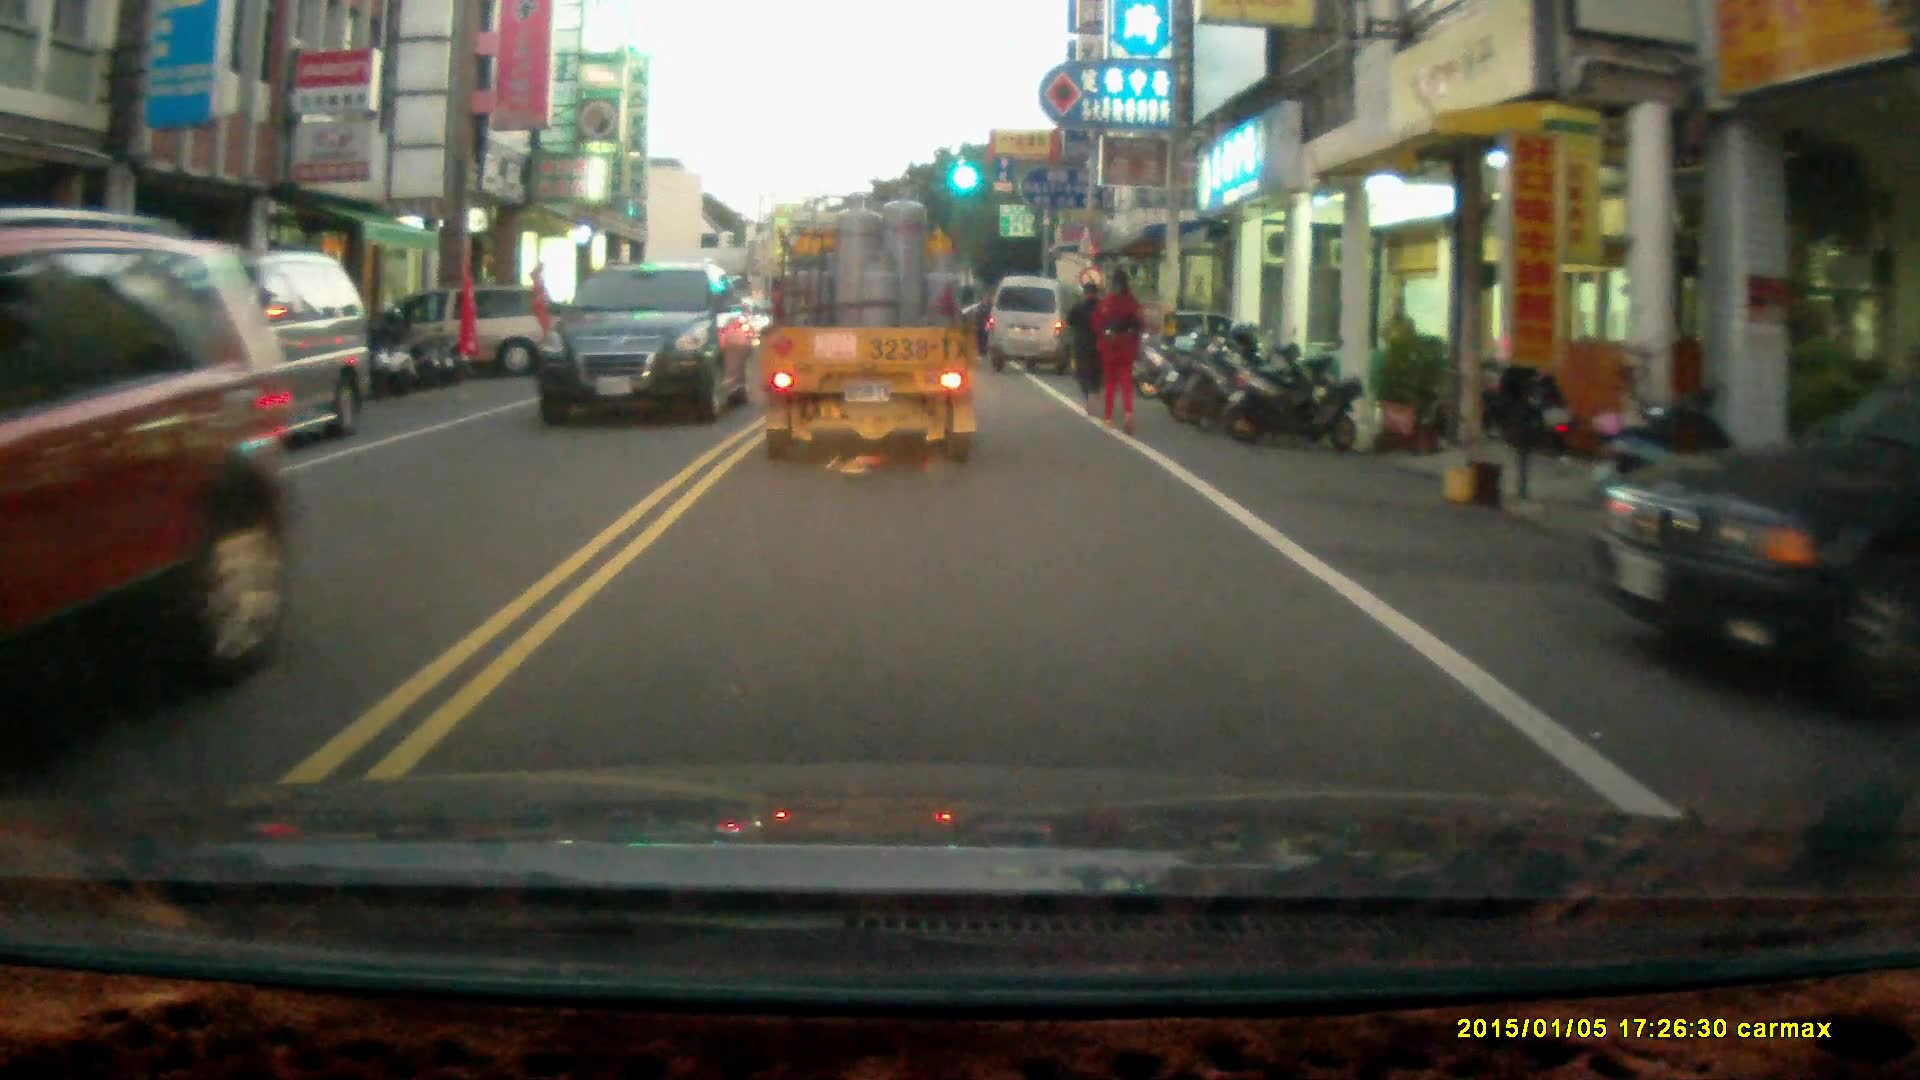pedestrian: (1090, 265, 1146, 435), (1063, 273, 1109, 413), (1377, 289, 1417, 394)
vehicle: (1, 217, 307, 738), (1580, 397, 1920, 681), (754, 176, 986, 466), (81, 254, 370, 471), (534, 257, 756, 428), (347, 287, 584, 375), (987, 275, 1089, 377)
